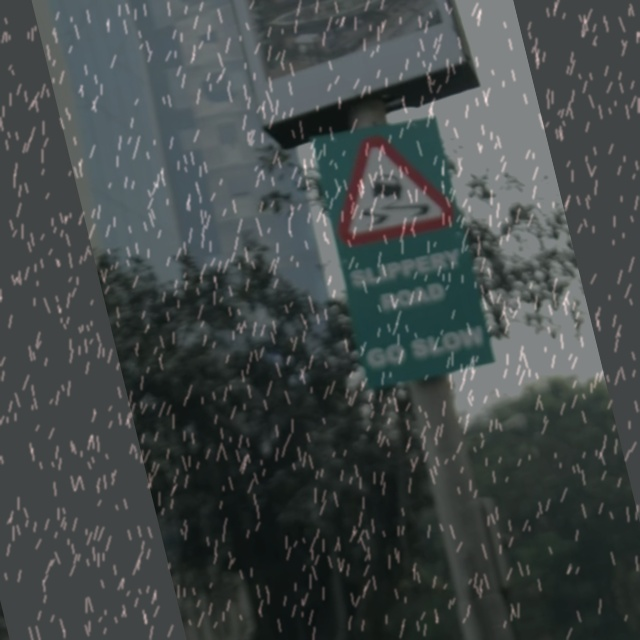Slippery_Road: (317, 123, 457, 252)
